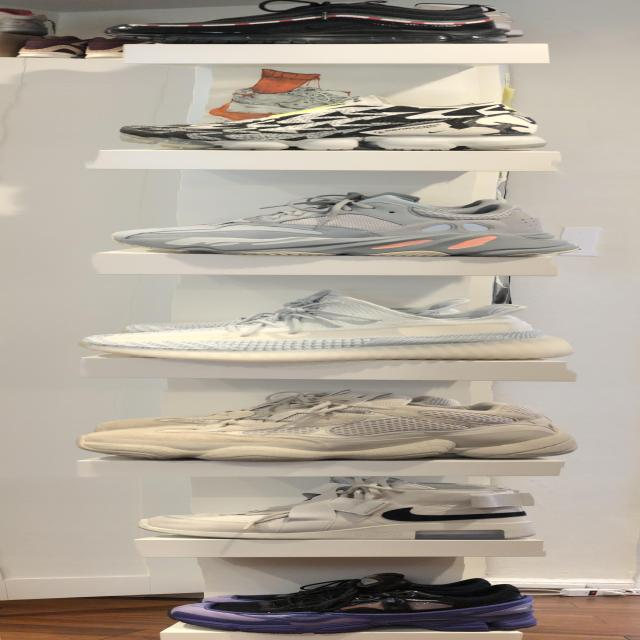shoe: (71, 387, 581, 462), (77, 288, 580, 363), (108, 190, 586, 258), (136, 478, 542, 540), (115, 95, 551, 152), (165, 576, 540, 636), (108, 0, 512, 46)
